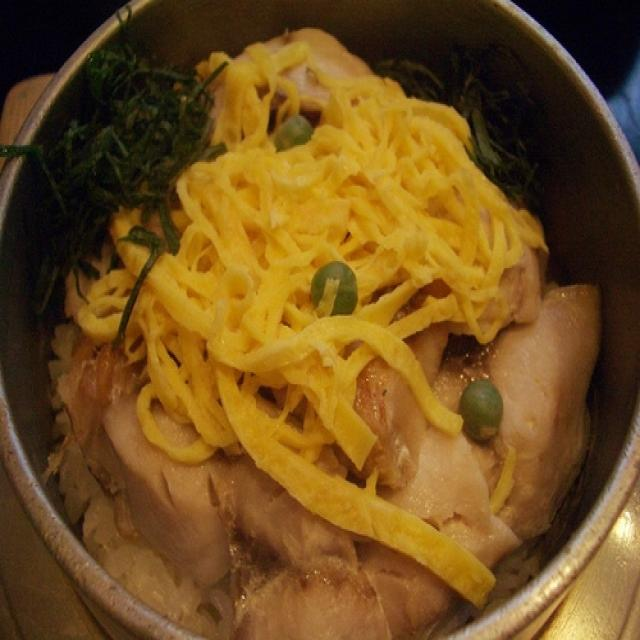刺身生食: (272, 1, 431, 227)
